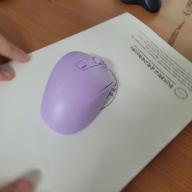mouse: (38, 39, 116, 136)
